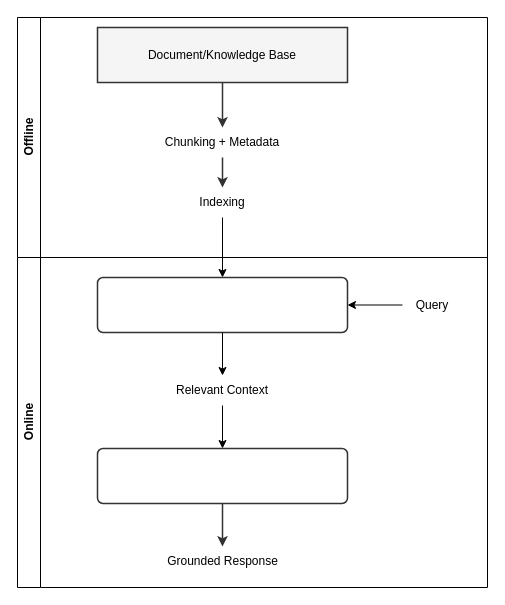
Image size: 505x605. Some labels were removed from this diagram. Each missing label, with the centre of its shape:
"LLM/Generator" goes at (222,475).
"Retriever" goes at (222,304).
